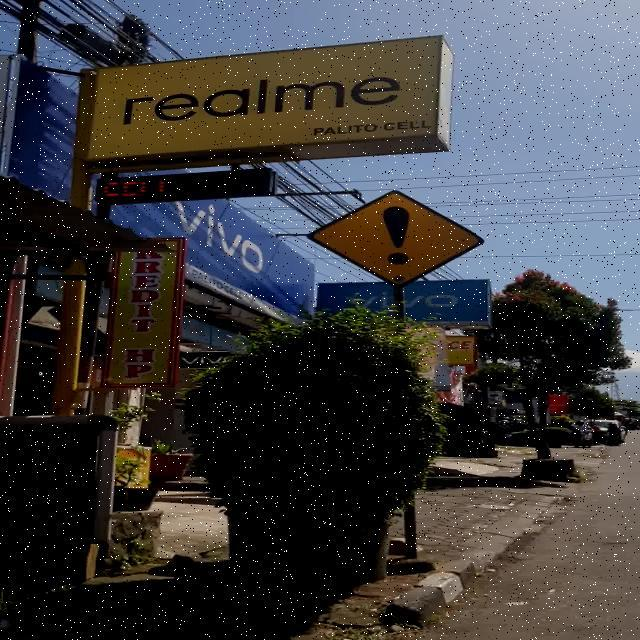Hati-Hati: (306, 190, 486, 286)
